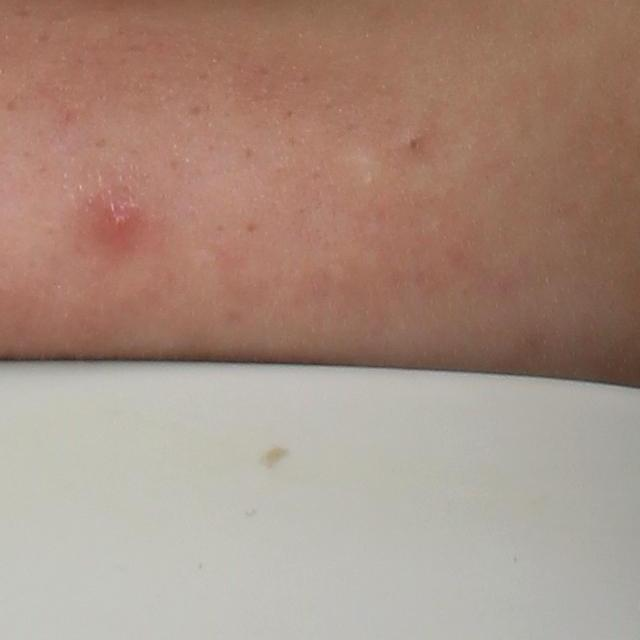comedo: (402, 130, 426, 152)
hypertrophic_scar: (342, 149, 387, 199)
papule: (99, 200, 139, 246)
